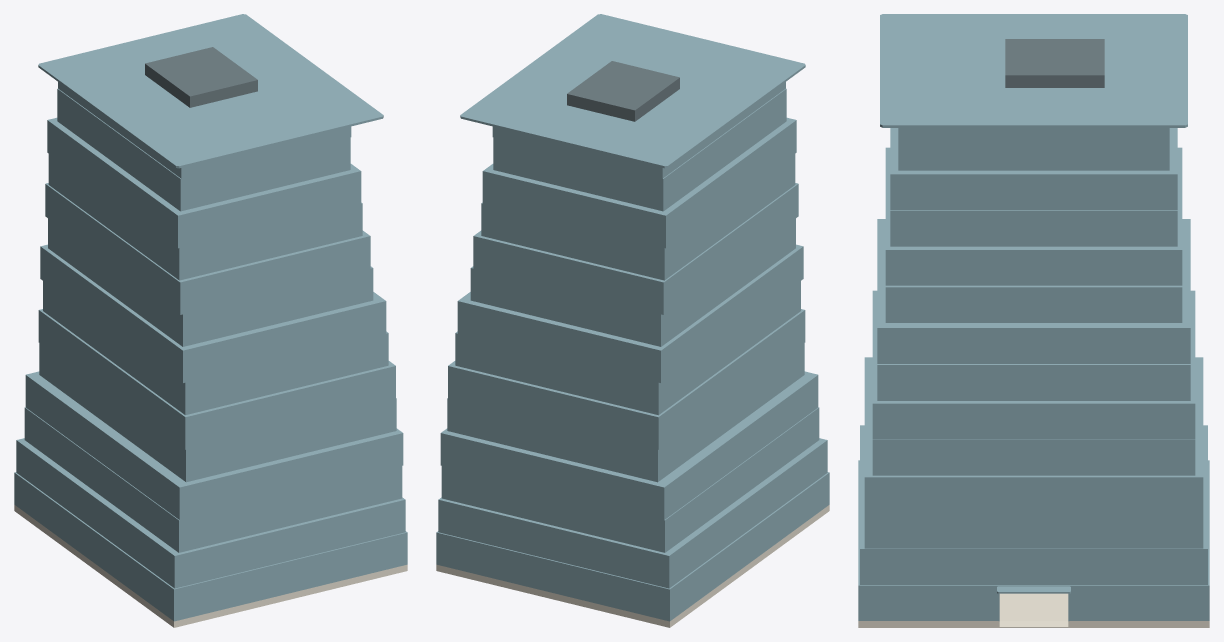
The model's file is Metro_CivicCommerce_ShadowProxy.glb.
3 renders of one model, left to right at view 1: azimuth 30°, elevation 25°; view 2: azimuth 150°, elevation 25°; view 3: azimuth 270°, elevation 25°, orthographic. The views are drawn at different scales.
Parts seen in each view (by area): view 1: Metro_CivicCommerce_ShadowProxy / Structure, Metro_CivicCommerce_ShadowProxy / Roof, Metro_CivicCommerce_ShadowProxy / Foundation; view 2: Metro_CivicCommerce_ShadowProxy / Structure, Metro_CivicCommerce_ShadowProxy / Roof, Metro_CivicCommerce_ShadowProxy / Foundation; view 3: Metro_CivicCommerce_ShadowProxy / Structure, Metro_CivicCommerce_ShadowProxy / Roof, Metro_CivicCommerce_ShadowProxy / Foundation, Metro_CivicCommerce_ShadowProxy / Entrance modules.
Part boxes in pixels (left/top/right/bottom): Metro_CivicCommerce_ShadowProxy / Structure: left=14, top=82, right=407, bottom=621; Metro_CivicCommerce_ShadowProxy / Roof: left=38, top=14, right=383, bottom=168; Metro_CivicCommerce_ShadowProxy / Foundation: left=14, top=505, right=407, bottom=627; Metro_CivicCommerce_ShadowProxy / Structure: left=436, top=82, right=829, bottom=621; Metro_CivicCommerce_ShadowProxy / Roof: left=460, top=14, right=805, bottom=168; Metro_CivicCommerce_ShadowProxy / Foundation: left=436, top=505, right=829, bottom=627; Metro_CivicCommerce_ShadowProxy / Structure: left=858, top=128, right=1209, bottom=620; Metro_CivicCommerce_ShadowProxy / Roof: left=880, top=14, right=1187, bottom=127; Metro_CivicCommerce_ShadowProxy / Foundation: left=858, top=593, right=1209, bottom=627; Metro_CivicCommerce_ShadowProxy / Entrance modules: left=997, top=586, right=1070, bottom=627.
Bounding box in the file's own units: 28.2 × 51.05 × 32.
